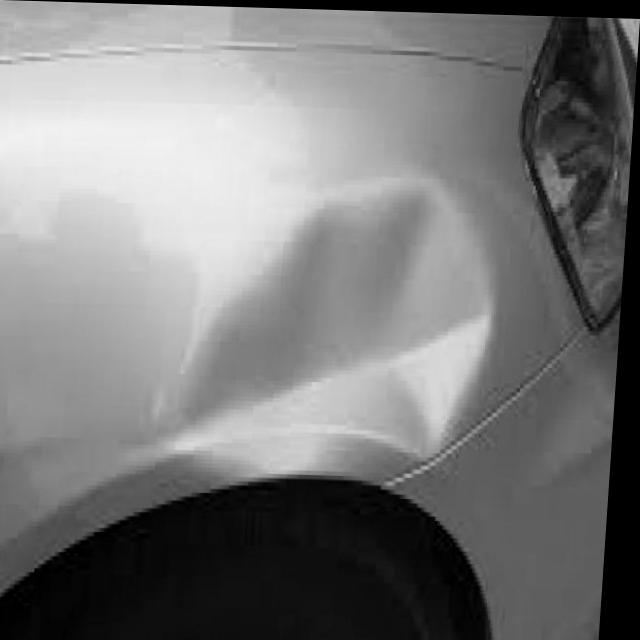Dent: (176, 183, 502, 469)
